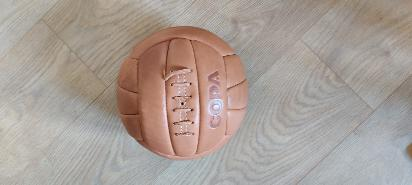Football size 5: (114, 24, 250, 161)
